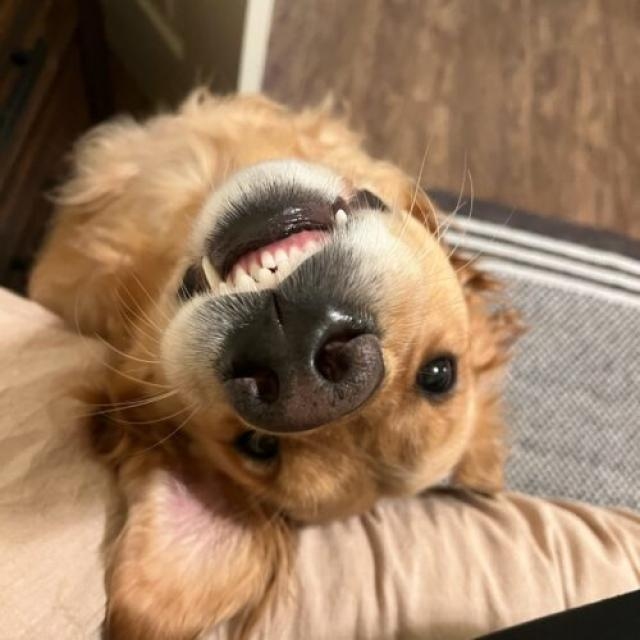golden_retriever_dog: (39, 88, 524, 640)
